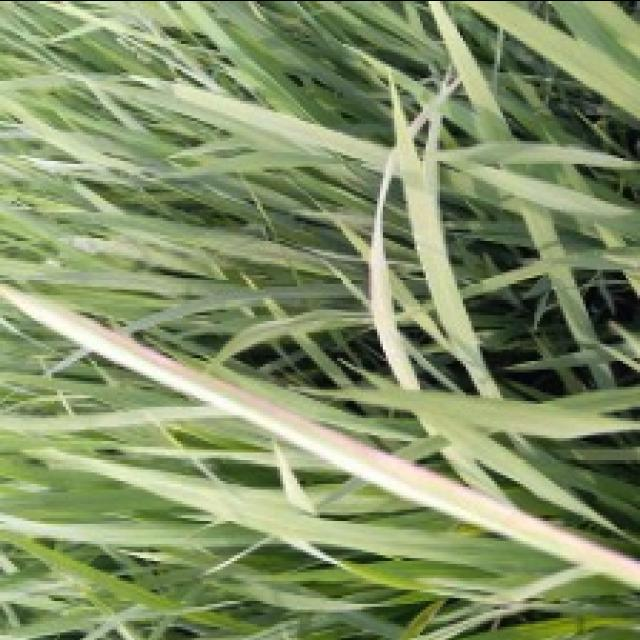Unhealthy: (52, 310, 640, 583)
